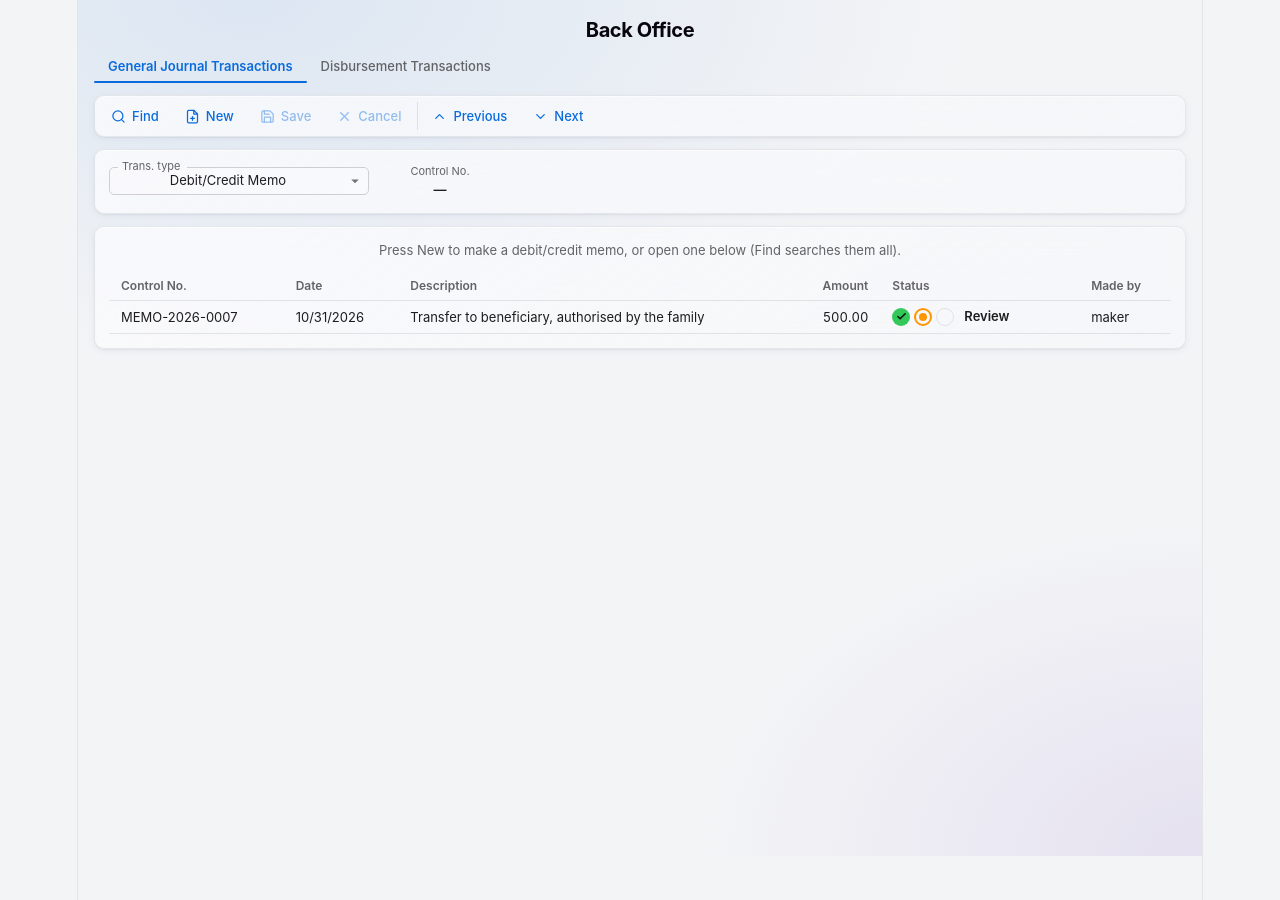
it: Back Office › shows a memo with its GL/SL entries, totals and no difference, and does not let the maker approve it
This screenshot has width=1280, height=900.
Click the text "MEMO-2026-0007": (196, 317) [109,301,284,333]
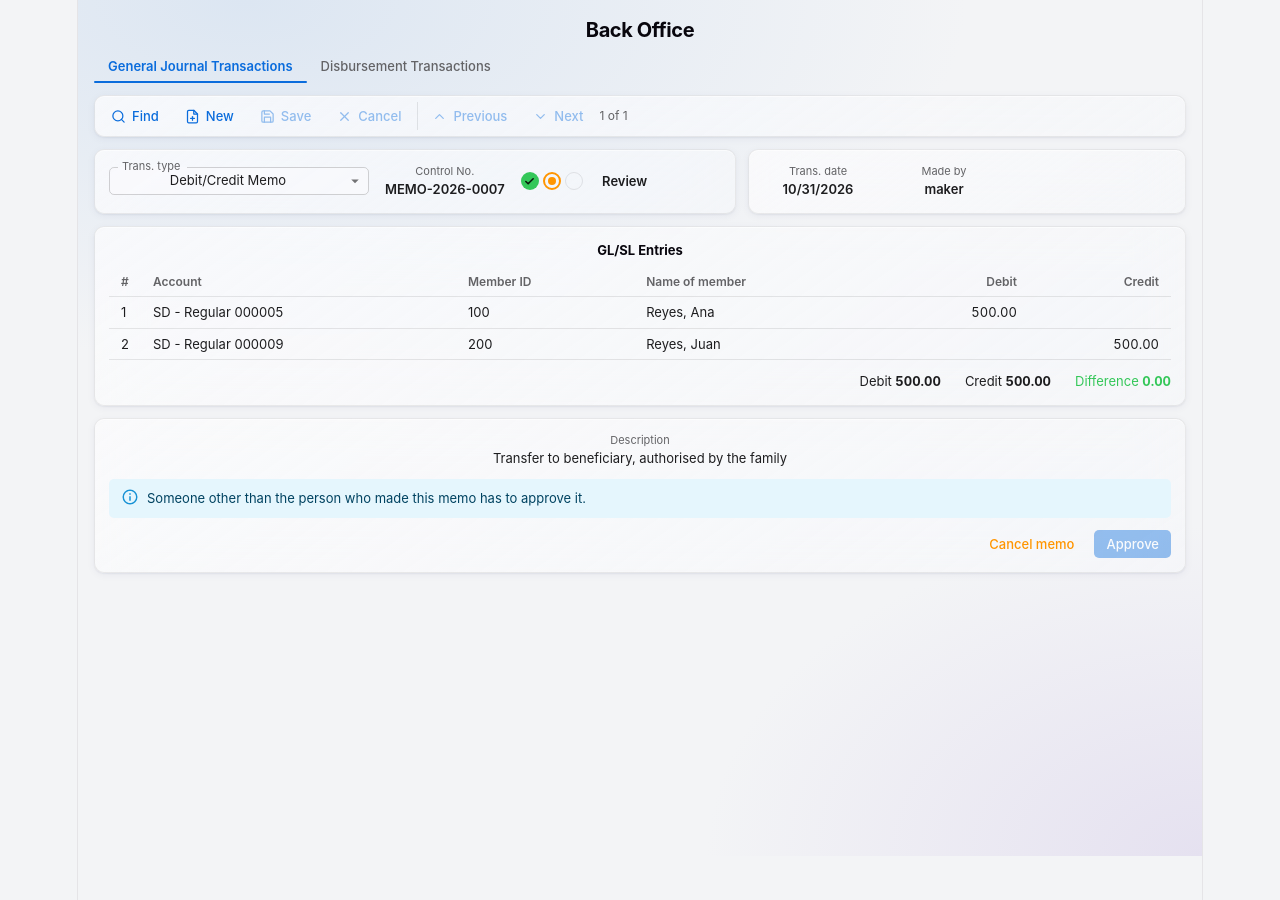
Expected: the text "Reyes, Juan" is shown, [634,328,887,359]
Expected: the text "Difference 0.00" is shown, [1075,372,1171,391]
Expected: the text "Someone other than the person who made this memo has to approve" is shown, [147,490,586,506]
